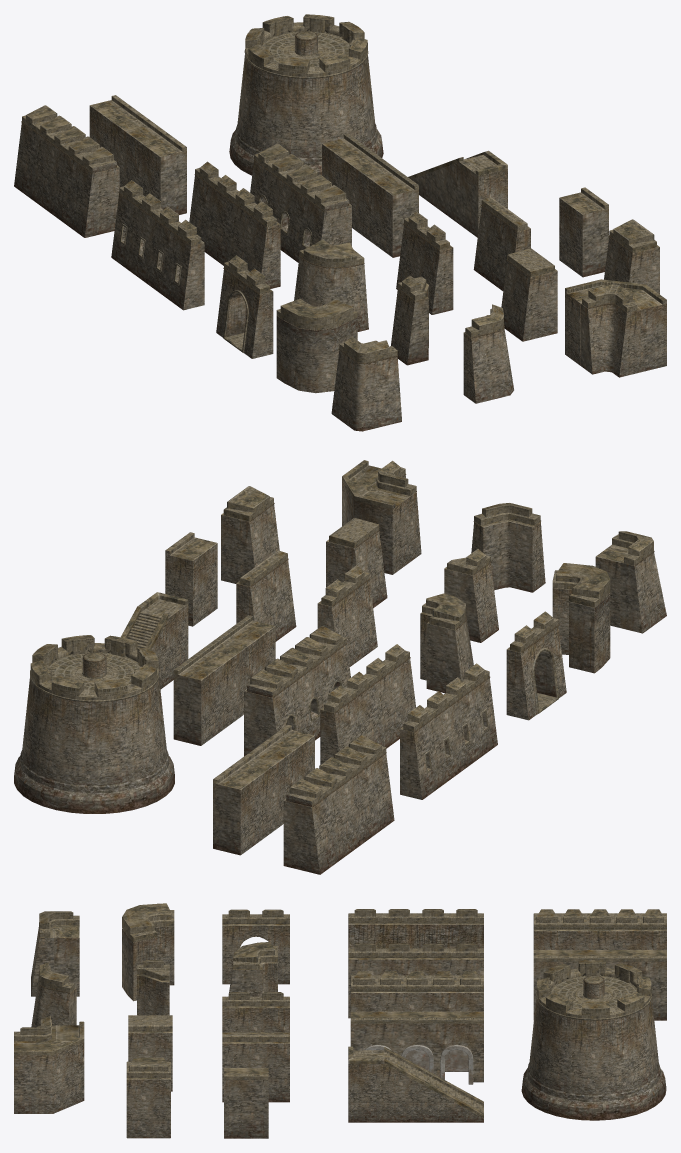
File: modular_fort_01.glb
3 renders of one model, top to bottom at view 1: azimuth 30°, elevation 25°; view 2: azimuth 150°, elevation 25°; view 3: azimuth 270°, elevation 25°, orthographic. The views are drawn at different scales.
Parts seen in each view (by area): view 1: modular_fort_01_tower_round, modular_fort_01_wall_thick_straight_01, modular_fort_01_wall_thin_straight_02, modular_fort_01_wall_thick_straight_02, modular_fort_01_wall_thin_straight_01, modular_fort_01_wall_walkway_straight_01, modular_fort_01_wall_walkway_straight_02, modular_fort_01_wall_thick_corner_02, modular_fort_01_wall_thin_corner_02, modular_fort_01_wall_thin_corner_01, modular_fort_01_wall_stairs_straight_01, modular_fort_01_wall_thin_gate_01 (+9 smaller); view 2: modular_fort_01_tower_round, modular_fort_01_wall_thick_straight_01, modular_fort_01_wall_thin_straight_02, modular_fort_01_wall_walkway_straight_01, modular_fort_01_wall_walkway_straight_02, modular_fort_01_wall_thick_straight_02, modular_fort_01_wall_thin_straight_01, modular_fort_01_wall_thick_corner_02, modular_fort_01_wall_thin_corner_03, modular_fort_01_wall_thin_gate_01, modular_fort_01_wall_thick_corner_01, modular_fort_01_wall_thick_end_02 (+10 smaller); view 3: modular_fort_01_tower_round, modular_fort_01_wall_stairs_straight_01, modular_fort_01_wall_walkway_straight_01, modular_fort_01_wall_walkway_corner_01, modular_fort_01_wall_thick_straight_02, modular_fort_01_wall_thick_straight_01, modular_fort_01_wall_thin_straight_02, modular_fort_01_wall_thin_straight_01, modular_fort_01_wall_thick_end_02, modular_fort_01_wall_thick_corner_02, modular_fort_01_wall_walkway_straight_02, modular_fort_01_wall_thin_straight_03 (+10 smaller).
Boxes of the visible parts, box(x1,y1,x2,y2) form: modular_fort_01_tower_round: box(229, 14, 383, 175); modular_fort_01_wall_thick_straight_01: box(14, 105, 119, 237); modular_fort_01_wall_thin_straight_02: box(111, 180, 204, 310); modular_fort_01_wall_thick_straight_02: box(250, 143, 351, 262); modular_fort_01_wall_thin_straight_01: box(189, 161, 280, 288); modular_fort_01_wall_walkway_straight_01: box(322, 133, 418, 257); modular_fort_01_wall_walkway_straight_02: box(89, 95, 186, 214); modular_fort_01_wall_thick_corner_02: box(276, 298, 357, 393); modular_fort_01_wall_thin_corner_02: box(331, 336, 401, 431); modular_fort_01_wall_thin_corner_01: box(580, 284, 640, 377); modular_fort_01_wall_stairs_straight_01: box(408, 150, 507, 237); modular_fort_01_wall_thin_gate_01: box(216, 255, 273, 358); modular_fort_01_tower_round: box(14, 635, 174, 813); modular_fort_01_wall_thick_straight_01: box(283, 735, 394, 874); modular_fort_01_wall_thin_straight_02: box(400, 663, 497, 799); modular_fort_01_wall_walkway_straight_01: box(173, 615, 275, 745); modular_fort_01_wall_walkway_straight_02: box(213, 724, 314, 855); modular_fort_01_wall_thick_straight_02: box(244, 626, 350, 756); modular_fort_01_wall_thin_straight_01: box(320, 644, 415, 764); modular_fort_01_wall_thick_corner_02: box(552, 563, 610, 673); modular_fort_01_wall_thin_corner_03: box(471, 503, 545, 592); modular_fort_01_wall_thin_gate_01: box(506, 611, 566, 720); modular_fort_01_wall_thick_corner_01: box(420, 593, 473, 693); modular_fort_01_wall_thick_end_02: box(221, 486, 279, 583); modular_fort_01_tower_round: box(521, 960, 666, 1120); modular_fort_01_wall_stairs_straight_01: box(348, 1046, 483, 1122); modular_fort_01_wall_walkway_straight_01: box(350, 1011, 483, 1084); modular_fort_01_wall_walkway_corner_01: box(14, 1021, 84, 1113); modular_fort_01_wall_thick_straight_02: box(350, 971, 483, 1011); modular_fort_01_wall_thick_straight_01: box(533, 909, 666, 949); modular_fort_01_wall_thin_straight_02: box(348, 909, 483, 948); modular_fort_01_wall_thin_straight_01: box(348, 943, 483, 1018); modular_fort_01_wall_thick_end_02: box(126, 1057, 170, 1138); modular_fort_01_wall_thick_corner_02: box(122, 903, 174, 1001); modular_fort_01_wall_walkway_straight_02: box(533, 950, 666, 1020); modular_fort_01_wall_thin_straight_03: box(222, 1032, 289, 1102).
Bounding box in the file's own units: 42.67 × 13.67 × 71.38.
3 materials, 3 textured.
